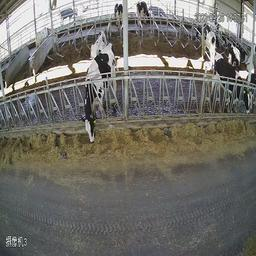cow: (82, 43, 117, 154), (213, 52, 252, 138), (196, 15, 216, 65), (134, 2, 153, 35), (90, 24, 108, 58), (112, 0, 124, 30)
